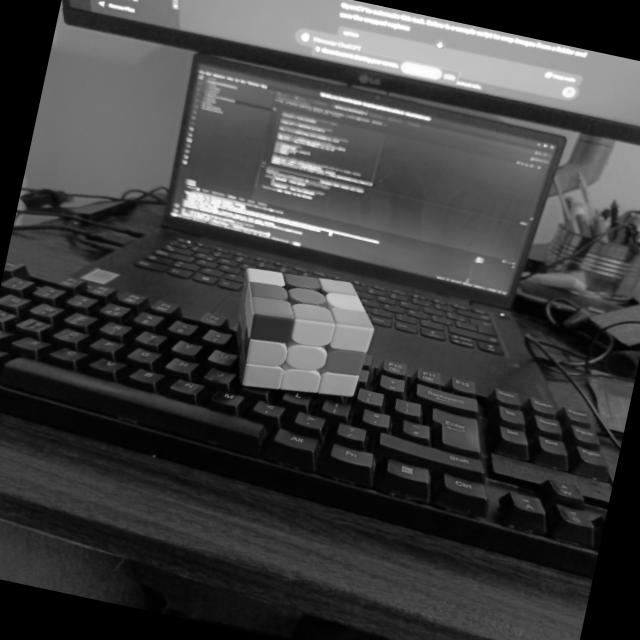rubik: (218, 258, 384, 410)
